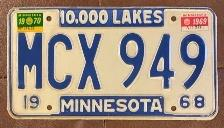4: (148, 32, 177, 91)
9: (178, 33, 209, 90), (116, 32, 147, 88)
C: (47, 31, 74, 90)
M: (16, 31, 45, 91)
X: (74, 32, 105, 91)
